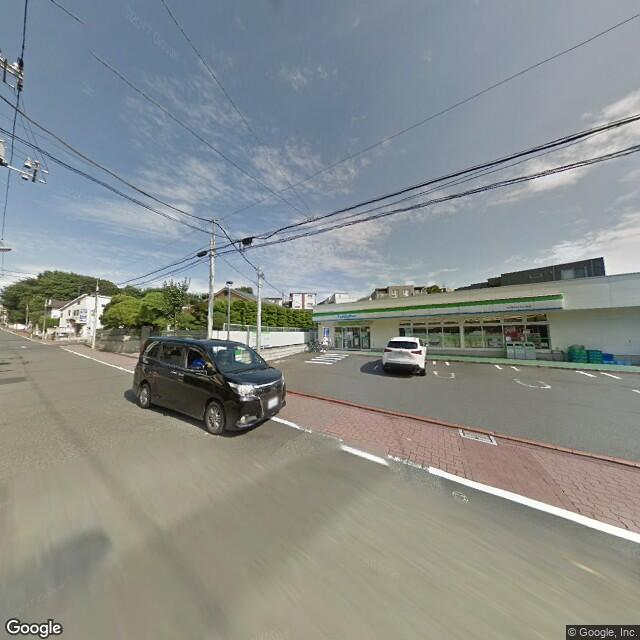family_mart: (311, 290, 564, 325)
